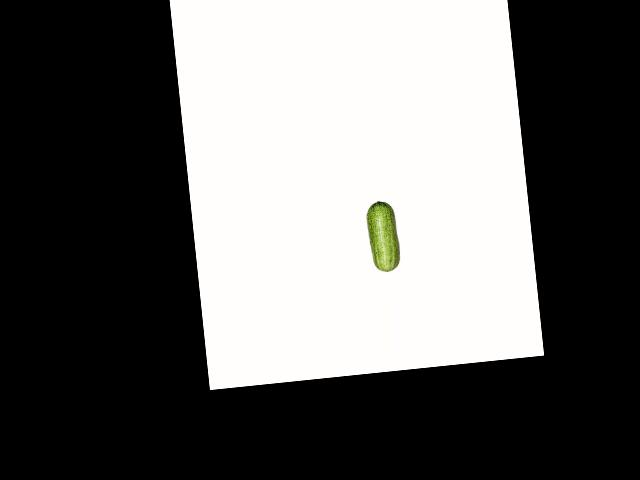cucumber: (365, 199, 401, 273)
